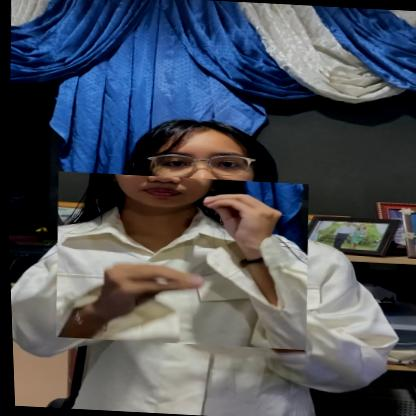Fix: (47, 170, 312, 350)
